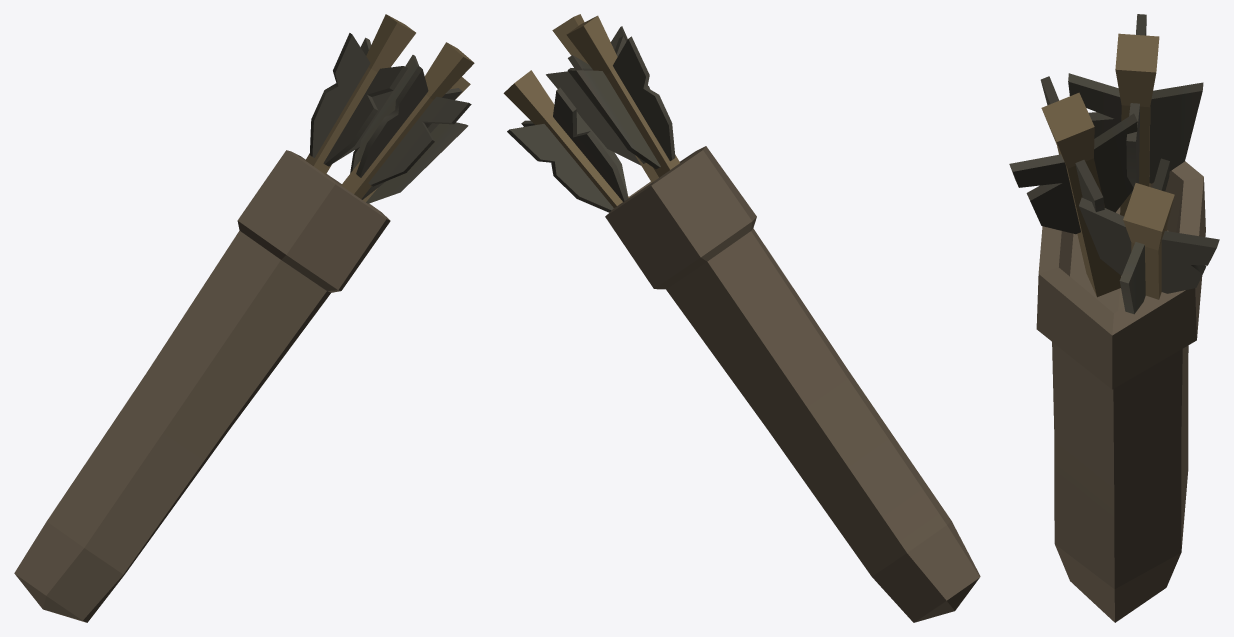
The model's file is goblinQuiver.fbx.
3 renders of one model, left to right at view 1: azimuth 30°, elevation 25°; view 2: azimuth 150°, elevation 25°; view 3: azimuth 270°, elevation 25°, orthographic. The views are drawn at different scales.
Visible parts, largest first — view 1: goblinQuiver; view 2: goblinQuiver; view 3: goblinQuiver.
Boxes of the visible parts, x1,y1,x2,y2 form: goblinQuiver: [14, 14, 474, 622]; goblinQuiver: [503, 14, 980, 622]; goblinQuiver: [1009, 14, 1219, 622].
Size of the model in its own units: 0.8504 by 0.9254 by 0.2127.
